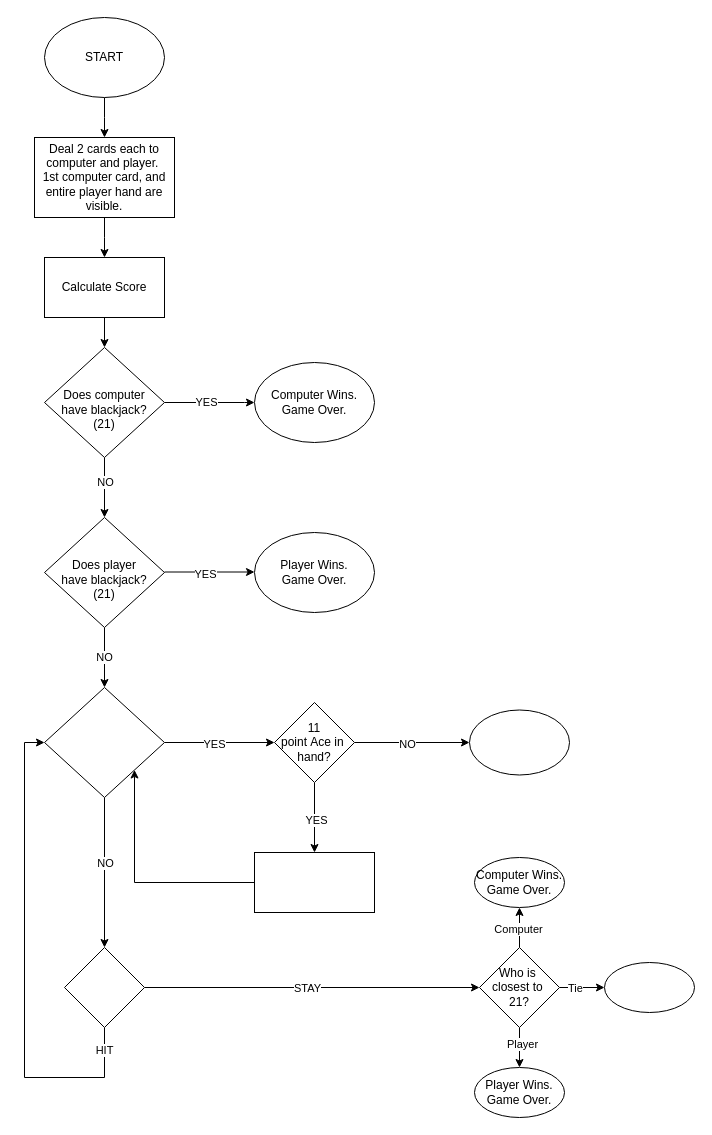
The diagram is 712 pixels wide and 1135 high, and some of its shapes have lost their labels. Each missing label, with the box of its shape:
Did computer or player bust? (score > 21): (44, 686, 164, 798)
DRAW.: (604, 962, 694, 1012)
HIT or STAY?: (64, 946, 144, 1028)
Opponent Wins. Game Over.: (468, 709, 570, 775)
Replace 1st occurrence of Ace worth 11 points with 1 point: (254, 852, 374, 912)
